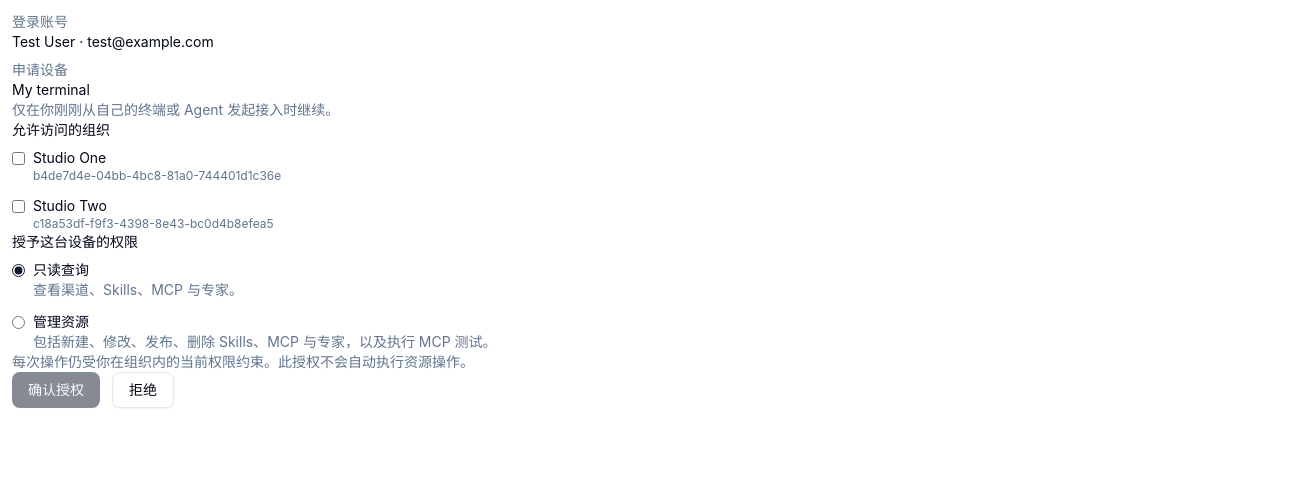
Test case: shows a failed authorization without navigating or pretending success
Step 1. Click the checkbox labelled "Studio One b4de7d4e-04bb-4bc8-81a0-744401d1c36e" → [18, 158], box [12,152,25,165]
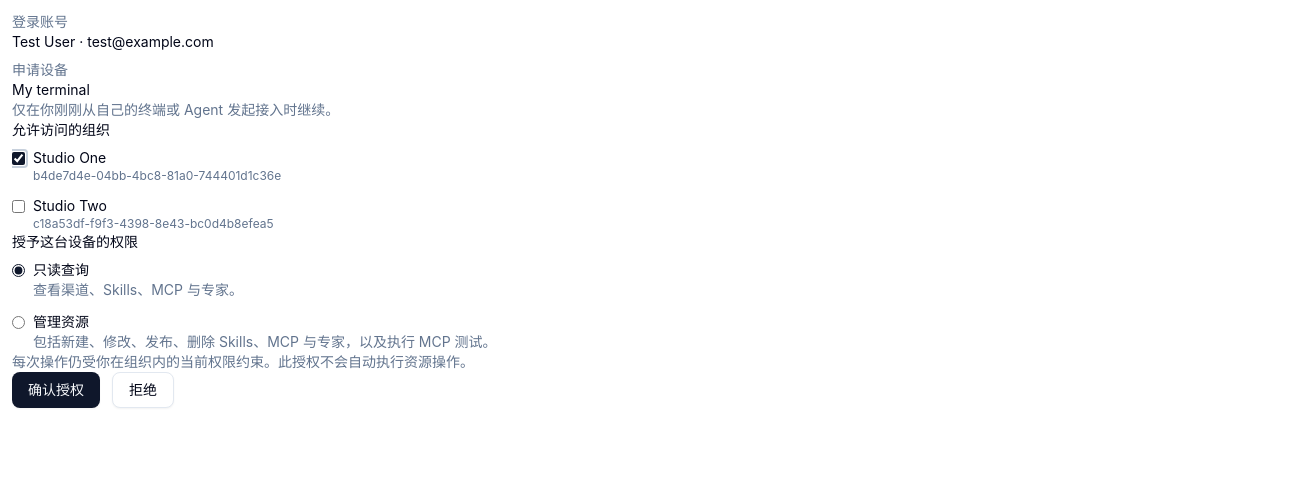
Step 2. Click the button "确认授权" → [56, 390], box [12,372,100,408]
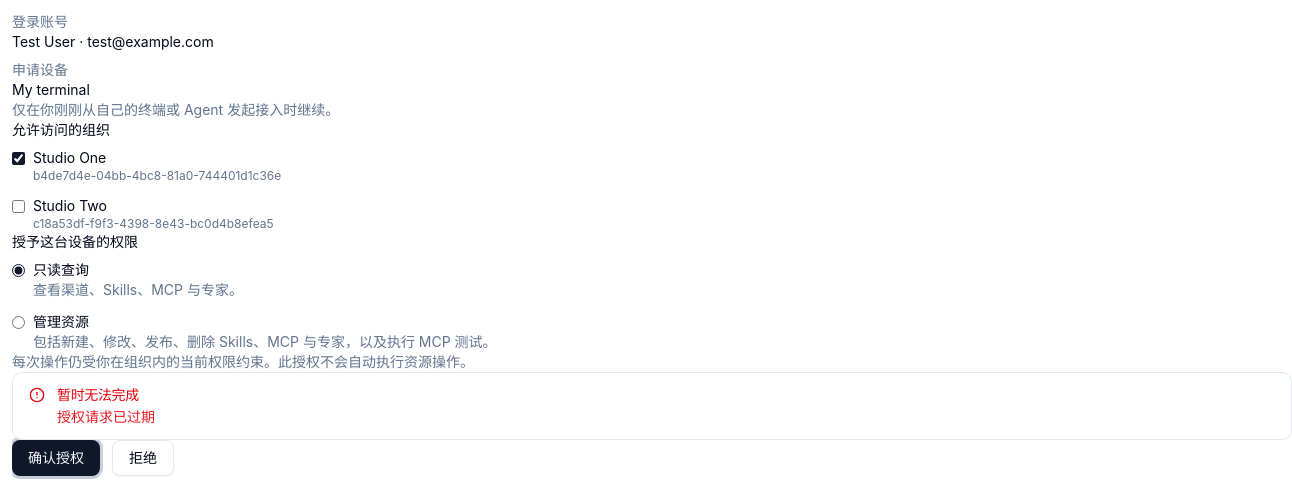
Result: the text "授权请求已过期" is shown at [57,407,155,427]
